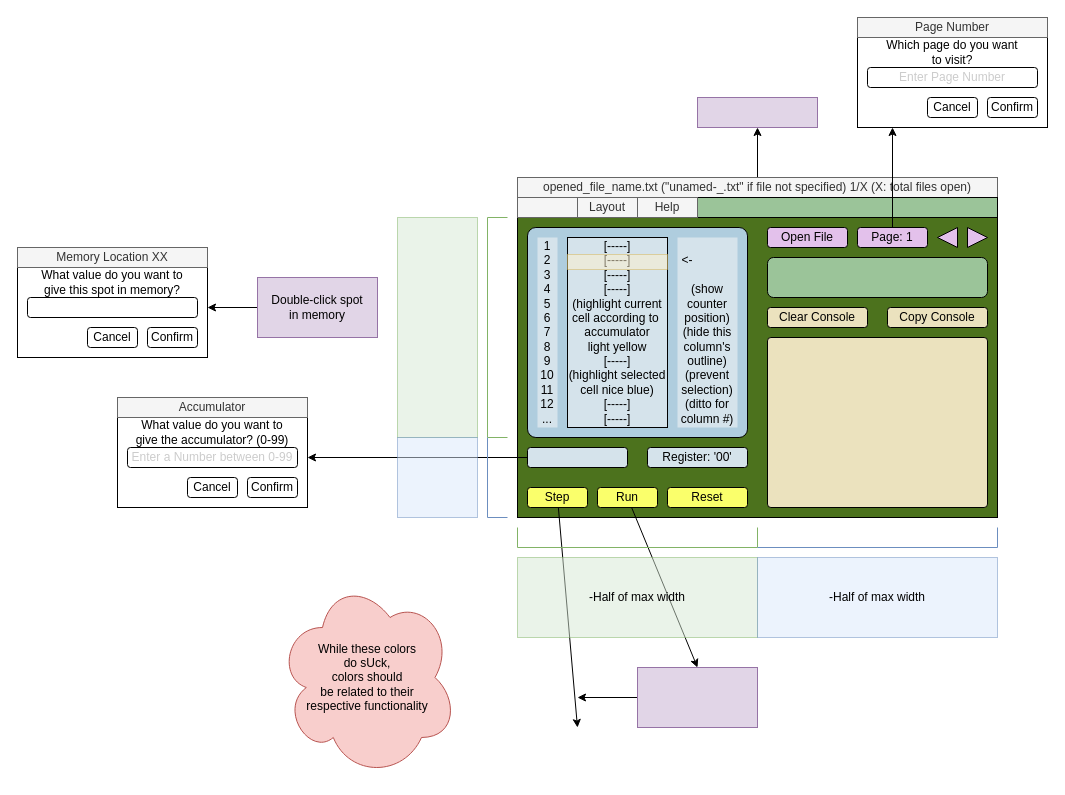
Some shapes in this 1065 by 795 pixel diagram are drawn without their labels. The shapes that lost their labels are listed below. From the top down, each one's centre as x and y in pixels, then its label:
[757,112]: Ex: demo.txt (4/5)
[547,207]: File
[877,277]: Open Text Editor
[112,307]: +xxXX
[437,327]: - Un-fixed dimensions
[877,422]: Console
[437,477]: - Fixed Height Only
[577,457]: Accumulator: 1
[697,697]: Loop Step
